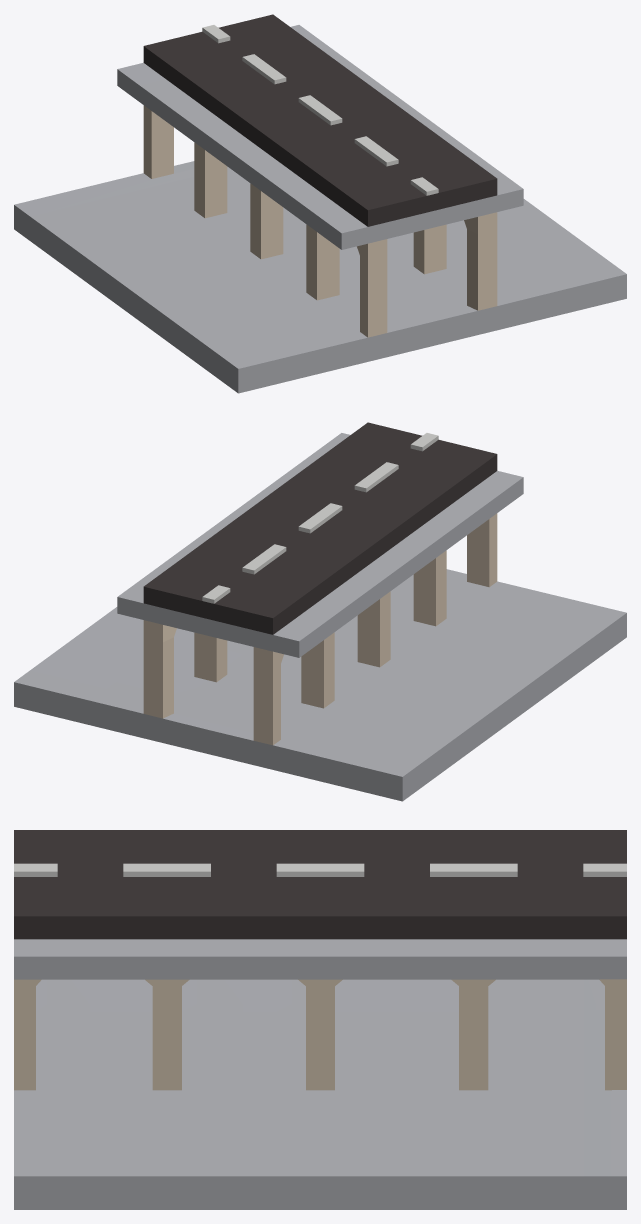
The model's file is Street_Bridge.glb.
3 views of the same model, one above another, from view 1: azimuth 30°, elevation 25°; view 2: azimuth 150°, elevation 25°; view 3: azimuth 270°, elevation 25° (orthographic). The views are drawn at different scales.
Parts seen in each view (by area): view 1: Street_Bridge.obj; view 2: Street_Bridge.obj; view 3: Street_Bridge.obj.
Boxes of the visible parts, x1=… form: Street_Bridge.obj: x1=14, y1=14, x2=626, y2=393; Street_Bridge.obj: x1=14, y1=422, x2=626, y2=801; Street_Bridge.obj: x1=14, y1=830, x2=626, y2=1209.
Size of the model in its own units: 2 by 0.7659 by 2.
